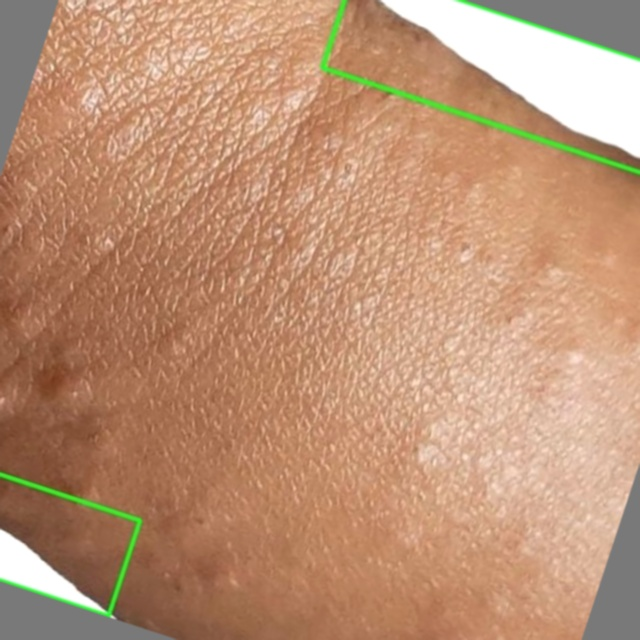Contact Dermatitis: (322, 0, 639, 172)
